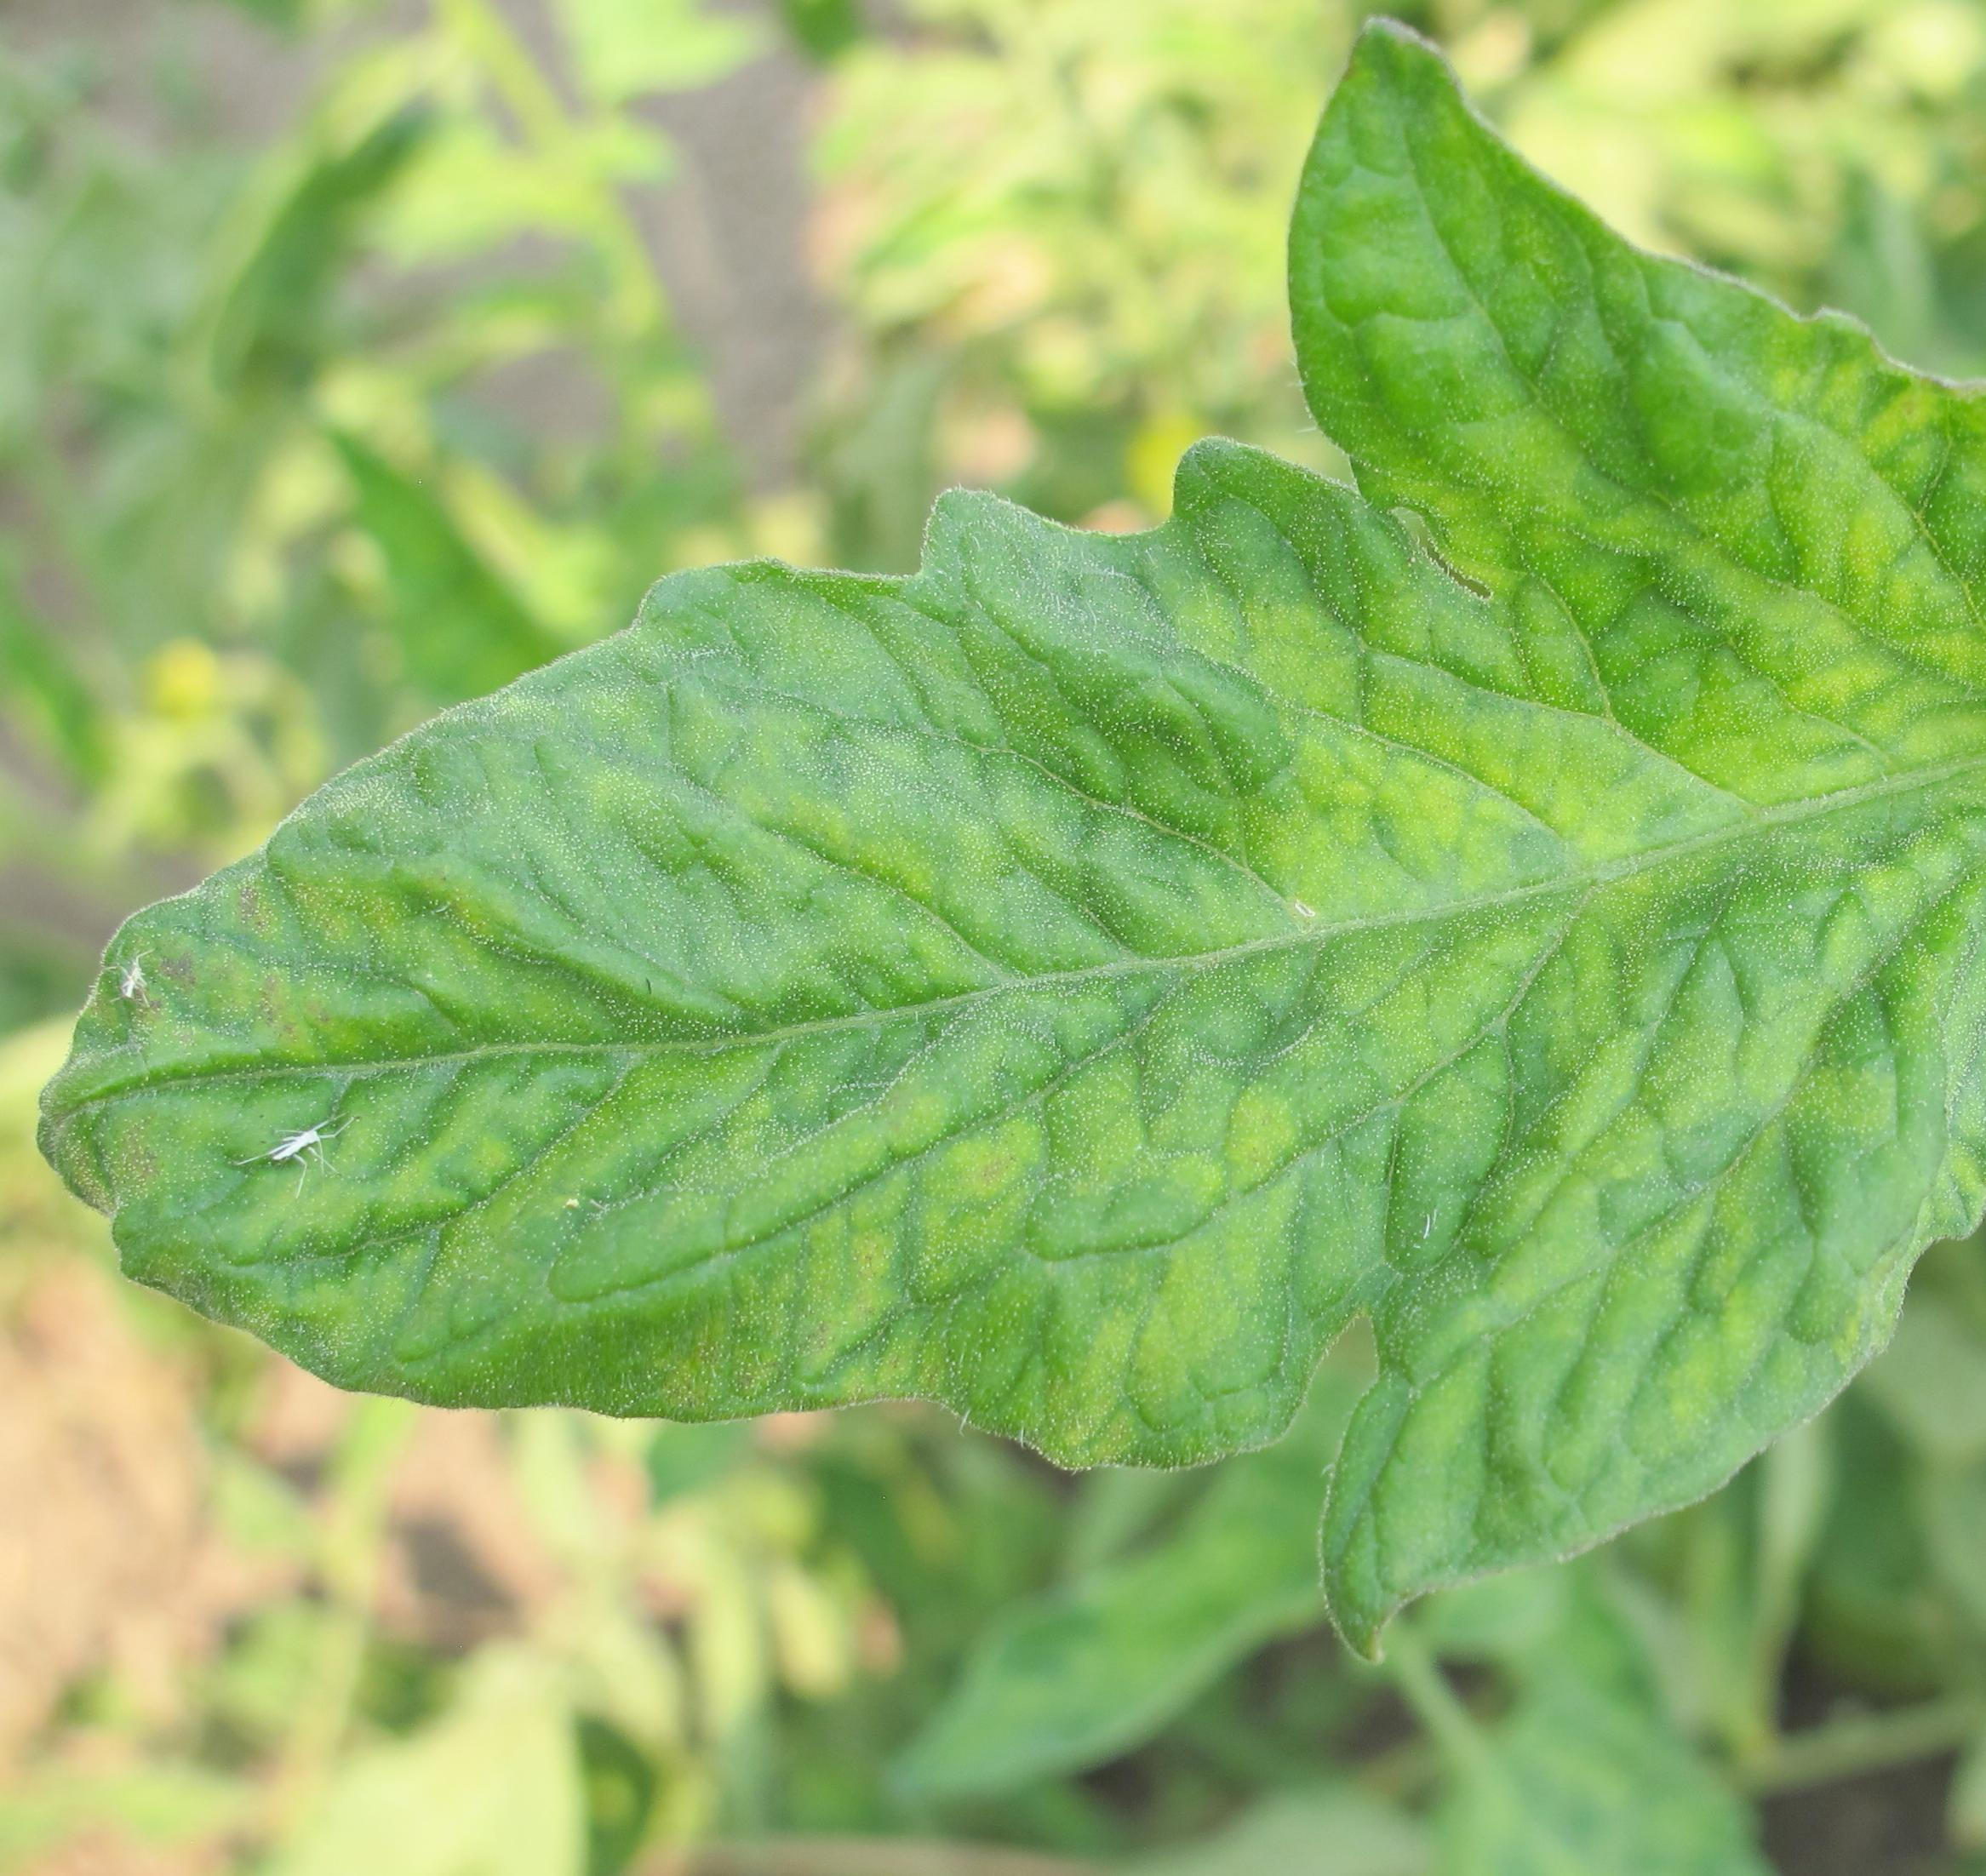Tomato leaf mosaic virus: (27, 72, 1986, 1732)
